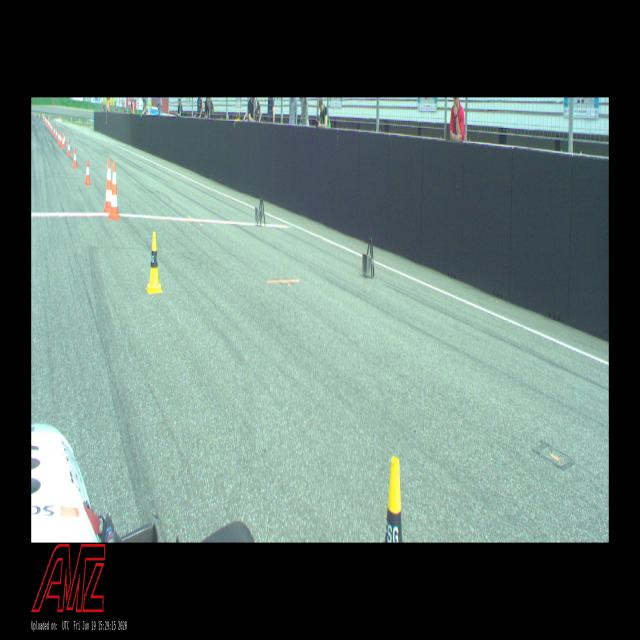large_orange_cone: (110, 164, 119, 219), (103, 157, 111, 213)
orange_cone: (85, 159, 92, 186), (72, 149, 78, 168), (67, 142, 71, 157), (61, 133, 64, 149), (59, 131, 62, 147), (63, 132, 66, 147), (55, 128, 58, 141), (58, 131, 60, 144), (54, 125, 56, 137), (51, 124, 53, 133)
yellow_cone: (384, 456, 403, 543), (146, 232, 162, 294)
